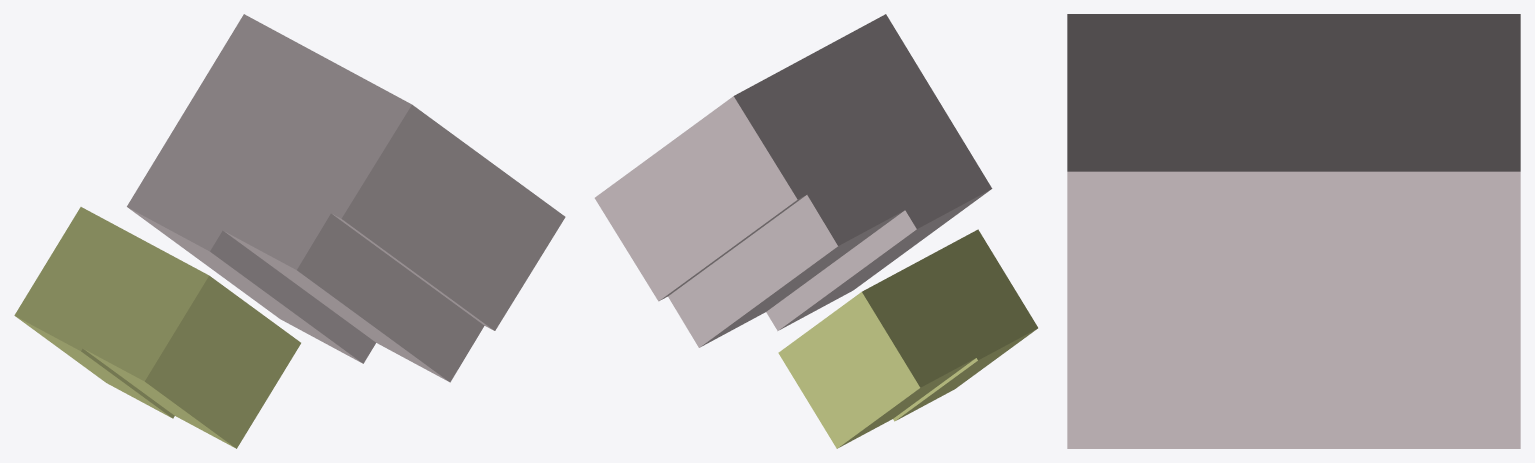
3 renders of one model, left to right at view 1: azimuth 30°, elevation 25°; view 2: azimuth 150°, elevation 25°; view 3: azimuth 270°, elevation 25°, orthographic. The views are drawn at different scales.
Visible parts, largest first — view 1: 0_1_3_2_2_1_2_1_3_0; view 2: 0_1_3_2_2_1_2_1_3_0; view 3: 0_1_3_2_2_1_2_1_3_0.
Boxes of the visible parts, x1=… form: 0_1_3_2_2_1_2_1_3_0: x1=14, y1=14, x2=565, y2=448; 0_1_3_2_2_1_2_1_3_0: x1=594, y1=14, x2=1037, y2=448; 0_1_3_2_2_1_2_1_3_0: x1=1067, y1=14, x2=1520, y2=448.
Bounding box in the file's own units: 22.44 × 18.5 × 15.
